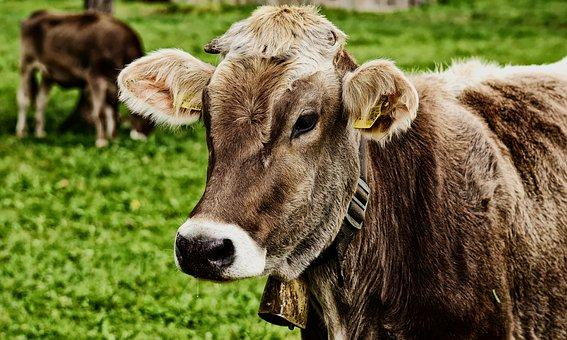cow: (18, 5, 566, 339)
